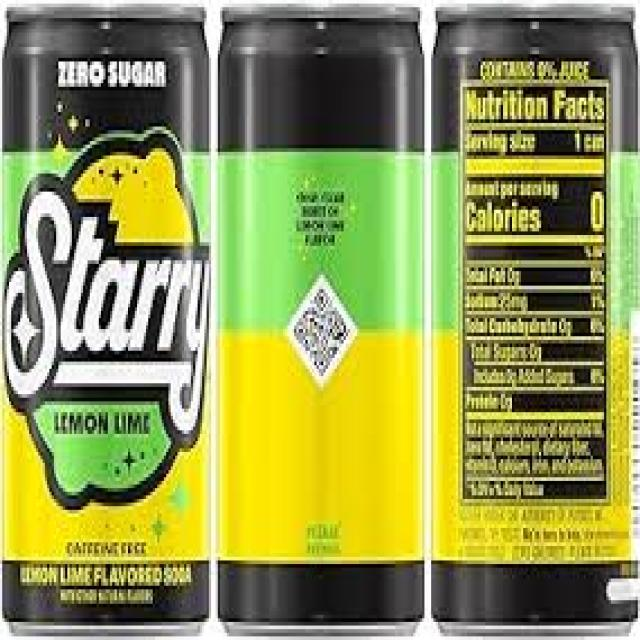Cans: (211, 4, 431, 636), (2, 3, 215, 640), (429, 4, 640, 632)
